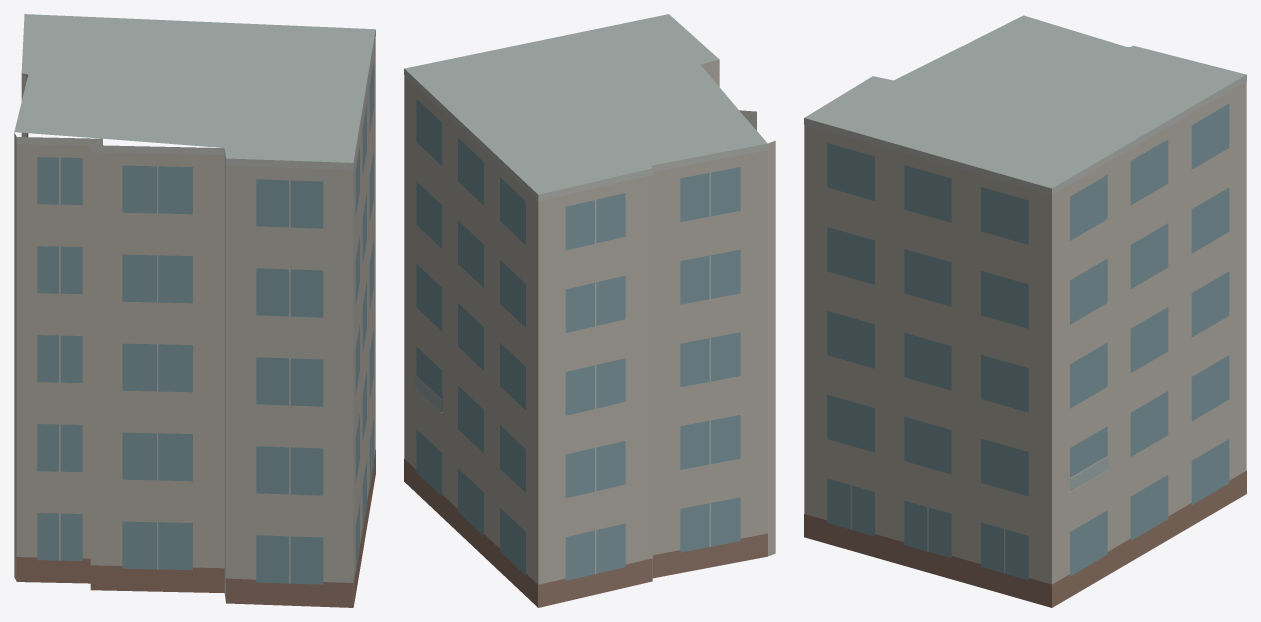
The model's file is survey-upis-32684668.glb.
3 renders of one model, left to right at view 1: azimuth 30°, elevation 25°; view 2: azimuth 150°, elevation 25°; view 3: azimuth 270°, elevation 25°, orthographic. The views are drawn at different scales.
Visible parts, largest first — view 1: survey-upis-32684668.tmp; view 2: survey-upis-32684668.tmp; view 3: survey-upis-32684668.tmp.
Boxes of the visible parts, <box> form: survey-upis-32684668.tmp: <box>14,14,375,607</box>; survey-upis-32684668.tmp: <box>404,14,775,607</box>; survey-upis-32684668.tmp: <box>804,15,1246,607</box>.
Bounding box in the file's own units: 13.76 × 15.4 × 14.74.
